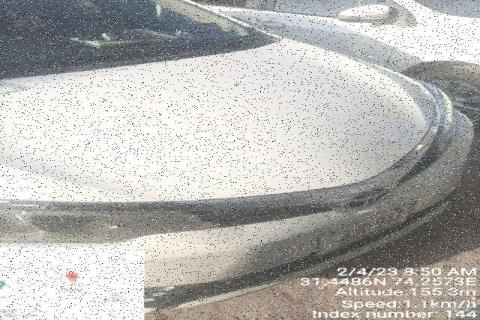LicensePlate: (315, 201, 415, 257)
